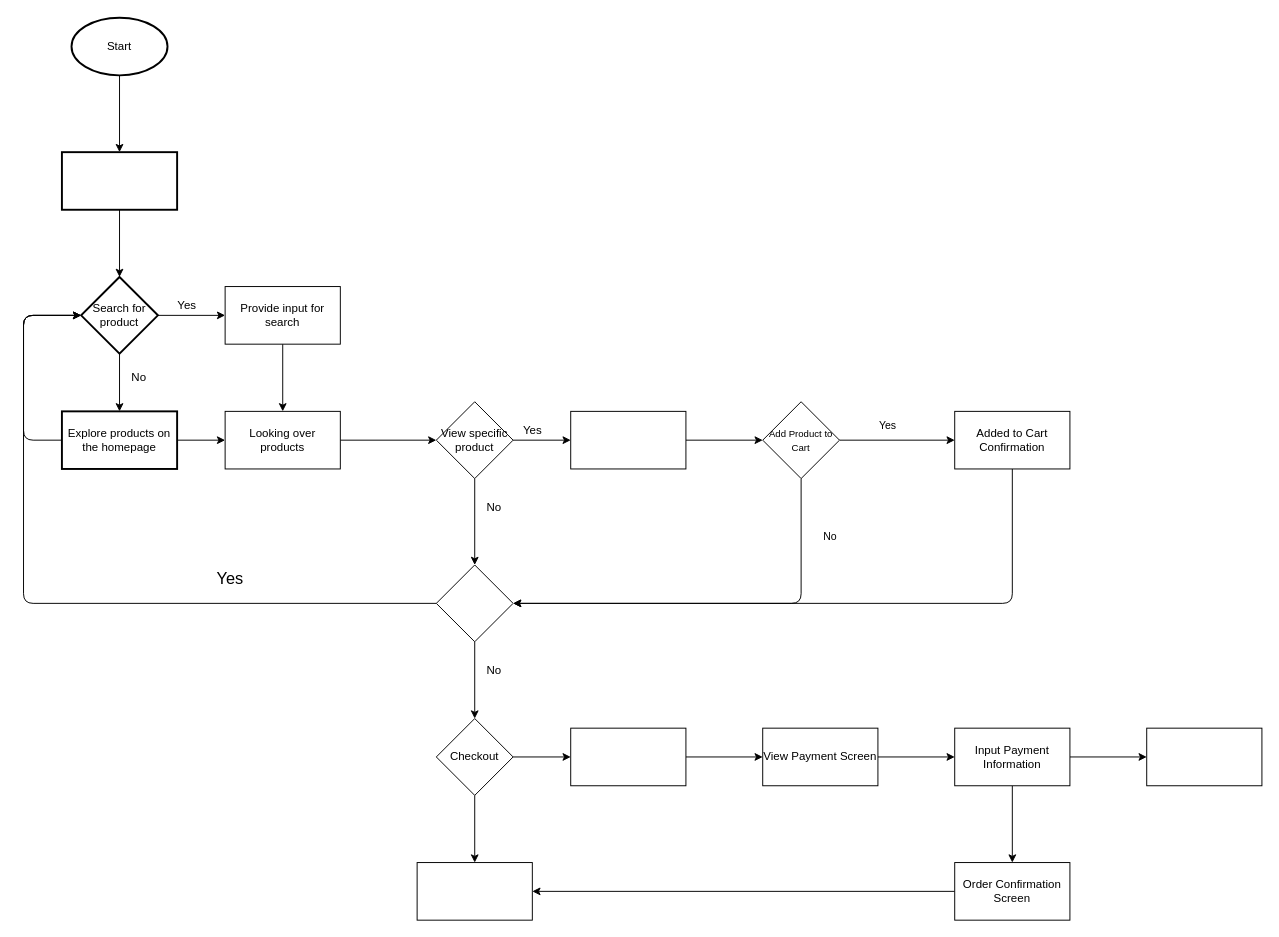
Some shapes in this 1279 by 937 pixel diagram are drawn without their labels. The centre of each missing label's shape, as x and y in pixels:
"Continue Shopping" belongs at (474,603).
"Email Confirmation" belongs at (1204,756).
"Leave Website" belongs at (474,891).
"The product's webpage will open" belongs at (628,439).
"User enters website" belongs at (119,180).
"View Cart Screen" belongs at (628,756).
